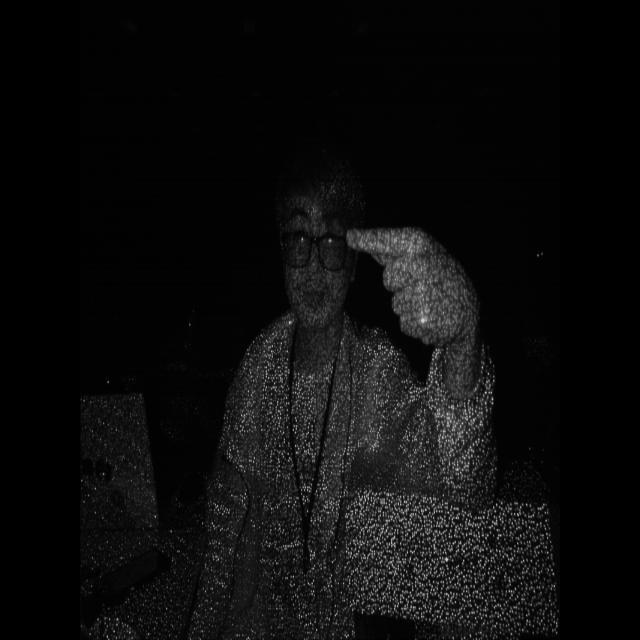G: (346, 181, 509, 404)
